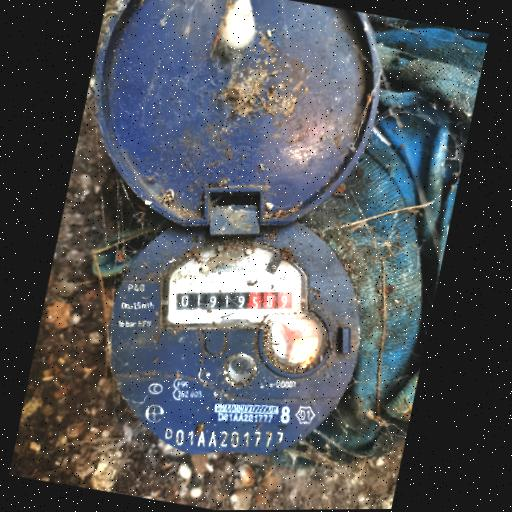0: (173, 291, 193, 312), (260, 290, 279, 311)
1: (189, 290, 207, 311), (217, 290, 234, 311)
5: (246, 289, 264, 311)
9: (274, 288, 295, 311), (203, 290, 222, 311), (231, 290, 249, 311)
border_water_meter_number: (163, 263, 306, 338)
